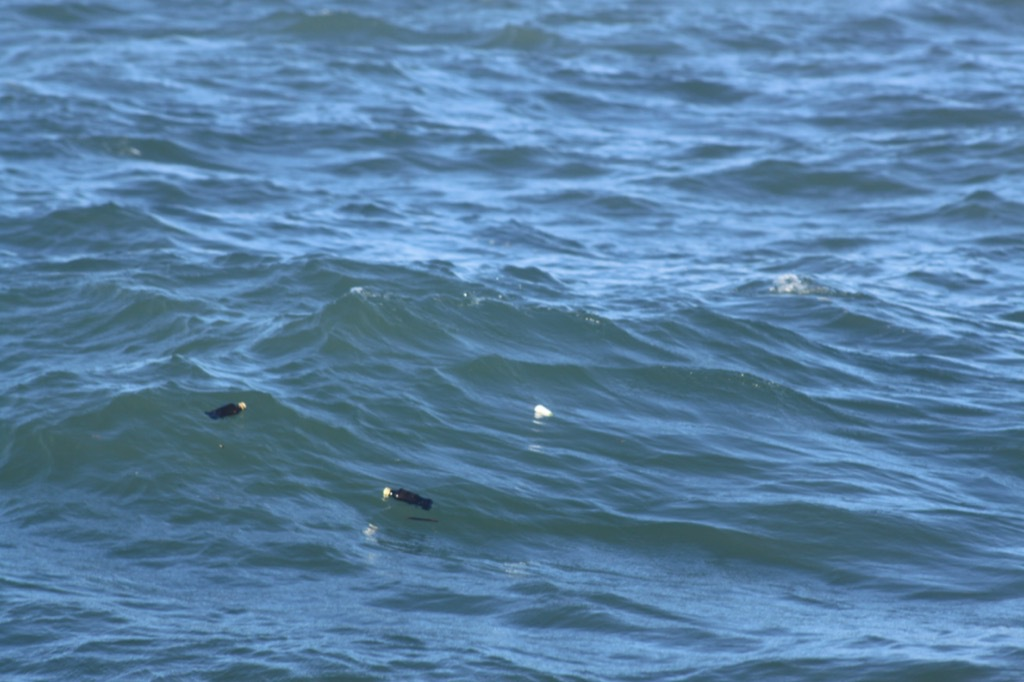plastic: (345, 467, 454, 571), (170, 377, 275, 452), (506, 382, 594, 465)
